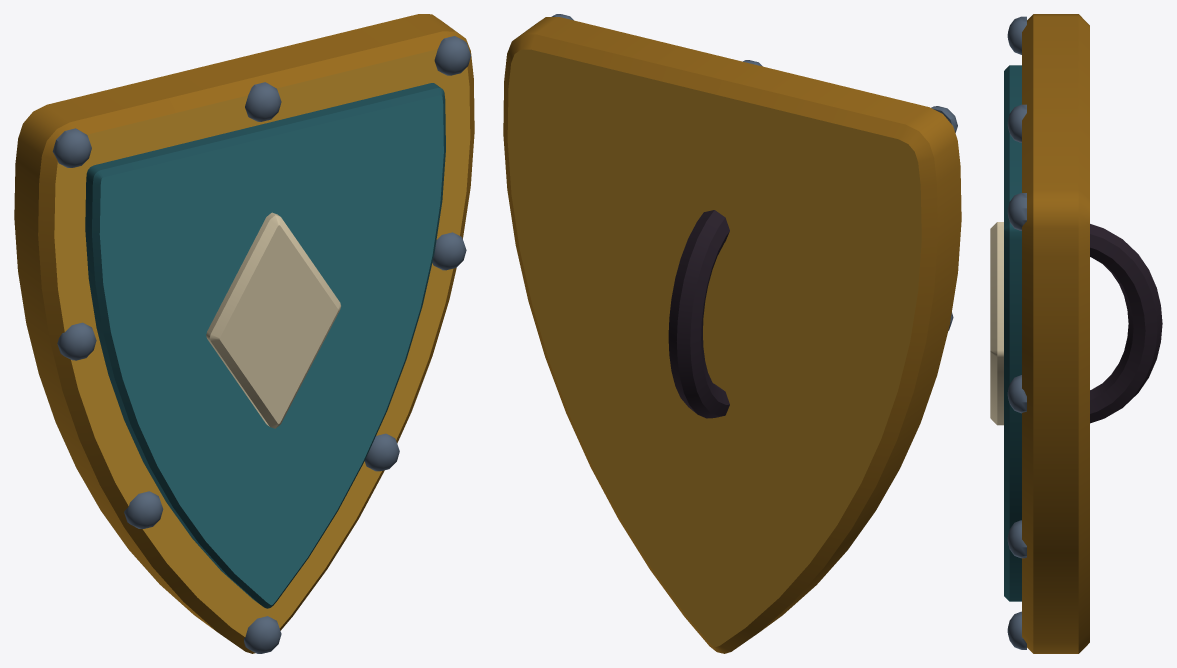
File: HeaterShield_06.glb
3 views of the same model, side by side, from view 1: azimuth 30°, elevation 25°; view 2: azimuth 150°, elevation 25°; view 3: azimuth 270°, elevation 25° (orthographic). The views are drawn at different scales.
Parts seen in each view (by area): view 1: HeaterShield_06; view 2: HeaterShield_06; view 3: HeaterShield_06.
Boxes of the visible parts, x1=… form: HeaterShield_06: x1=14, y1=14, x2=474, y2=653; HeaterShield_06: x1=503, y1=14, x2=961, y2=653; HeaterShield_06: x1=990, y1=14, x2=1162, y2=653.
Bounding box in the file's own units: 2.12 × 2.67 × 0.76.
